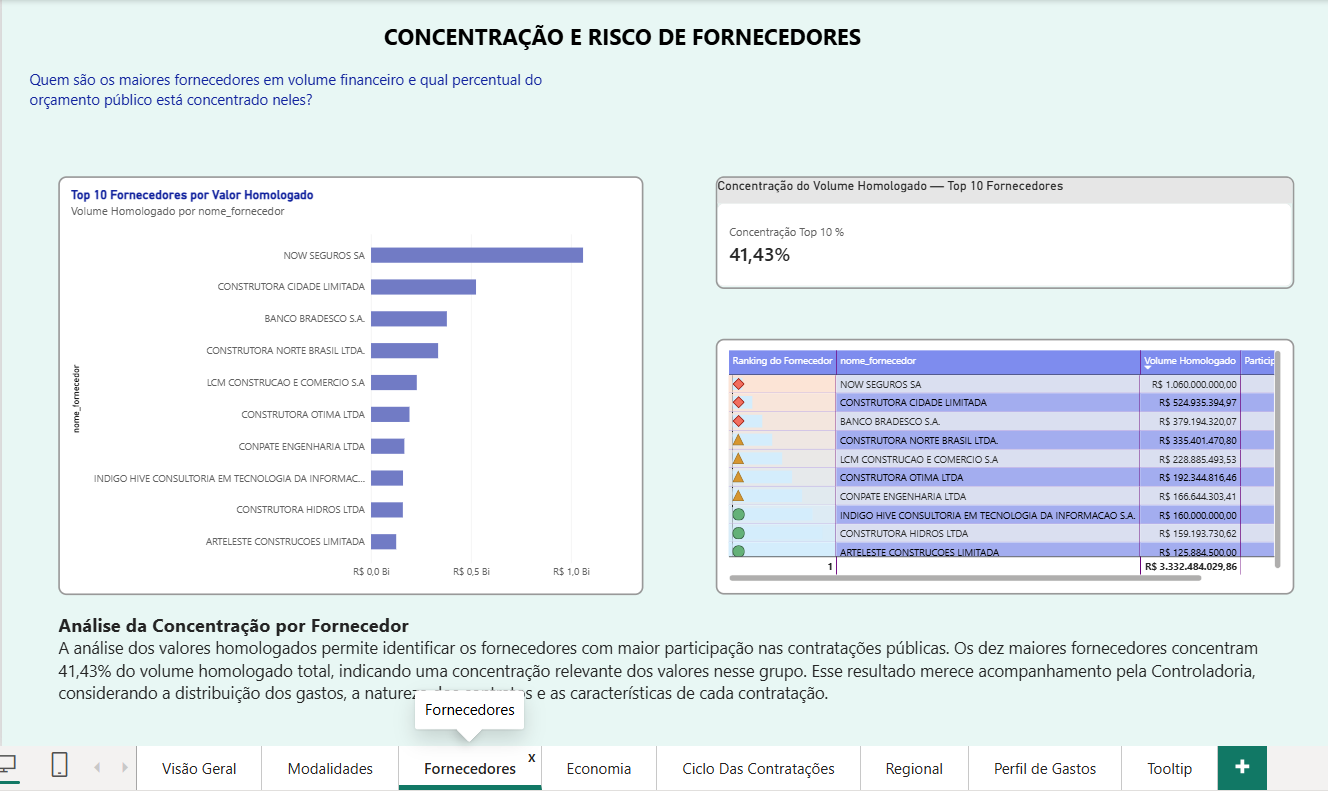

Layout of this report page (visuals, bound fields, positions):
{"tool":"powerbi","page":{"name":"Fornecedores","canvas":[1920,1080],"ordinal":3},"visuals":[{"type":"clusteredBarChart","title":"Top 10 Fornecedores por Valor Homologado","fields":{"Category":["pncp_controladoria dim_fornecedor.nome_fornecedor"],"Y":["Medidas.Volume Homologado"]},"box":[81.4,255.2,846.9,606.2],"z":0},{"type":"cardVisual","title":"Concentração do Volume Homologado — Top 10 Fornecedores","fields":{"Data":["Medidas.Concentração Top 10 %"]},"box":[1033.3,255.2,837.9,162.9],"z":1000},{"type":"textbox","box":[81.4,886.7,1789.8,148.4],"z":2000},{"type":"tableEx","fields":{"Values":["Medidas.Ranking do Fornecedor","pncp_controladoria dim_fornecedor.nome_fornecedor","Medidas.Volume Homologado","Medidas.Participação no Volume %"]},"box":[1033.3,490.4,837.7,370.5],"z":3000},{"type":"textbox","box":[508.5,30.8,780,50.7],"z":4000},{"type":"textbox","box":[39.8,99.5,778.2,61.5],"z":5000}]}

Visuals, with their boxes on the page's 1920x1080 design canvas (x1, y1, x2, y2). These are canvas units, not pixel positions in the 1328x791 screenshot, which may show the page scaled, cropped or inside an application window:
"Top 10 Fornecedores por Valor Homologado" clusteredBarChart: l=81, t=255, r=928, b=861
"Concentração do Volume Homologado — Top 10 Fornecedores" cardVisual: l=1033, t=255, r=1871, b=418
textbox: l=81, t=887, r=1871, b=1035
tableEx - Medidas.Ranking do Fornecedor x pncp_controladoria dim_fornecedor.nome_fornecedor: l=1033, t=490, r=1871, b=861
textbox: l=508, t=31, r=1288, b=82
textbox: l=40, t=100, r=818, b=161
